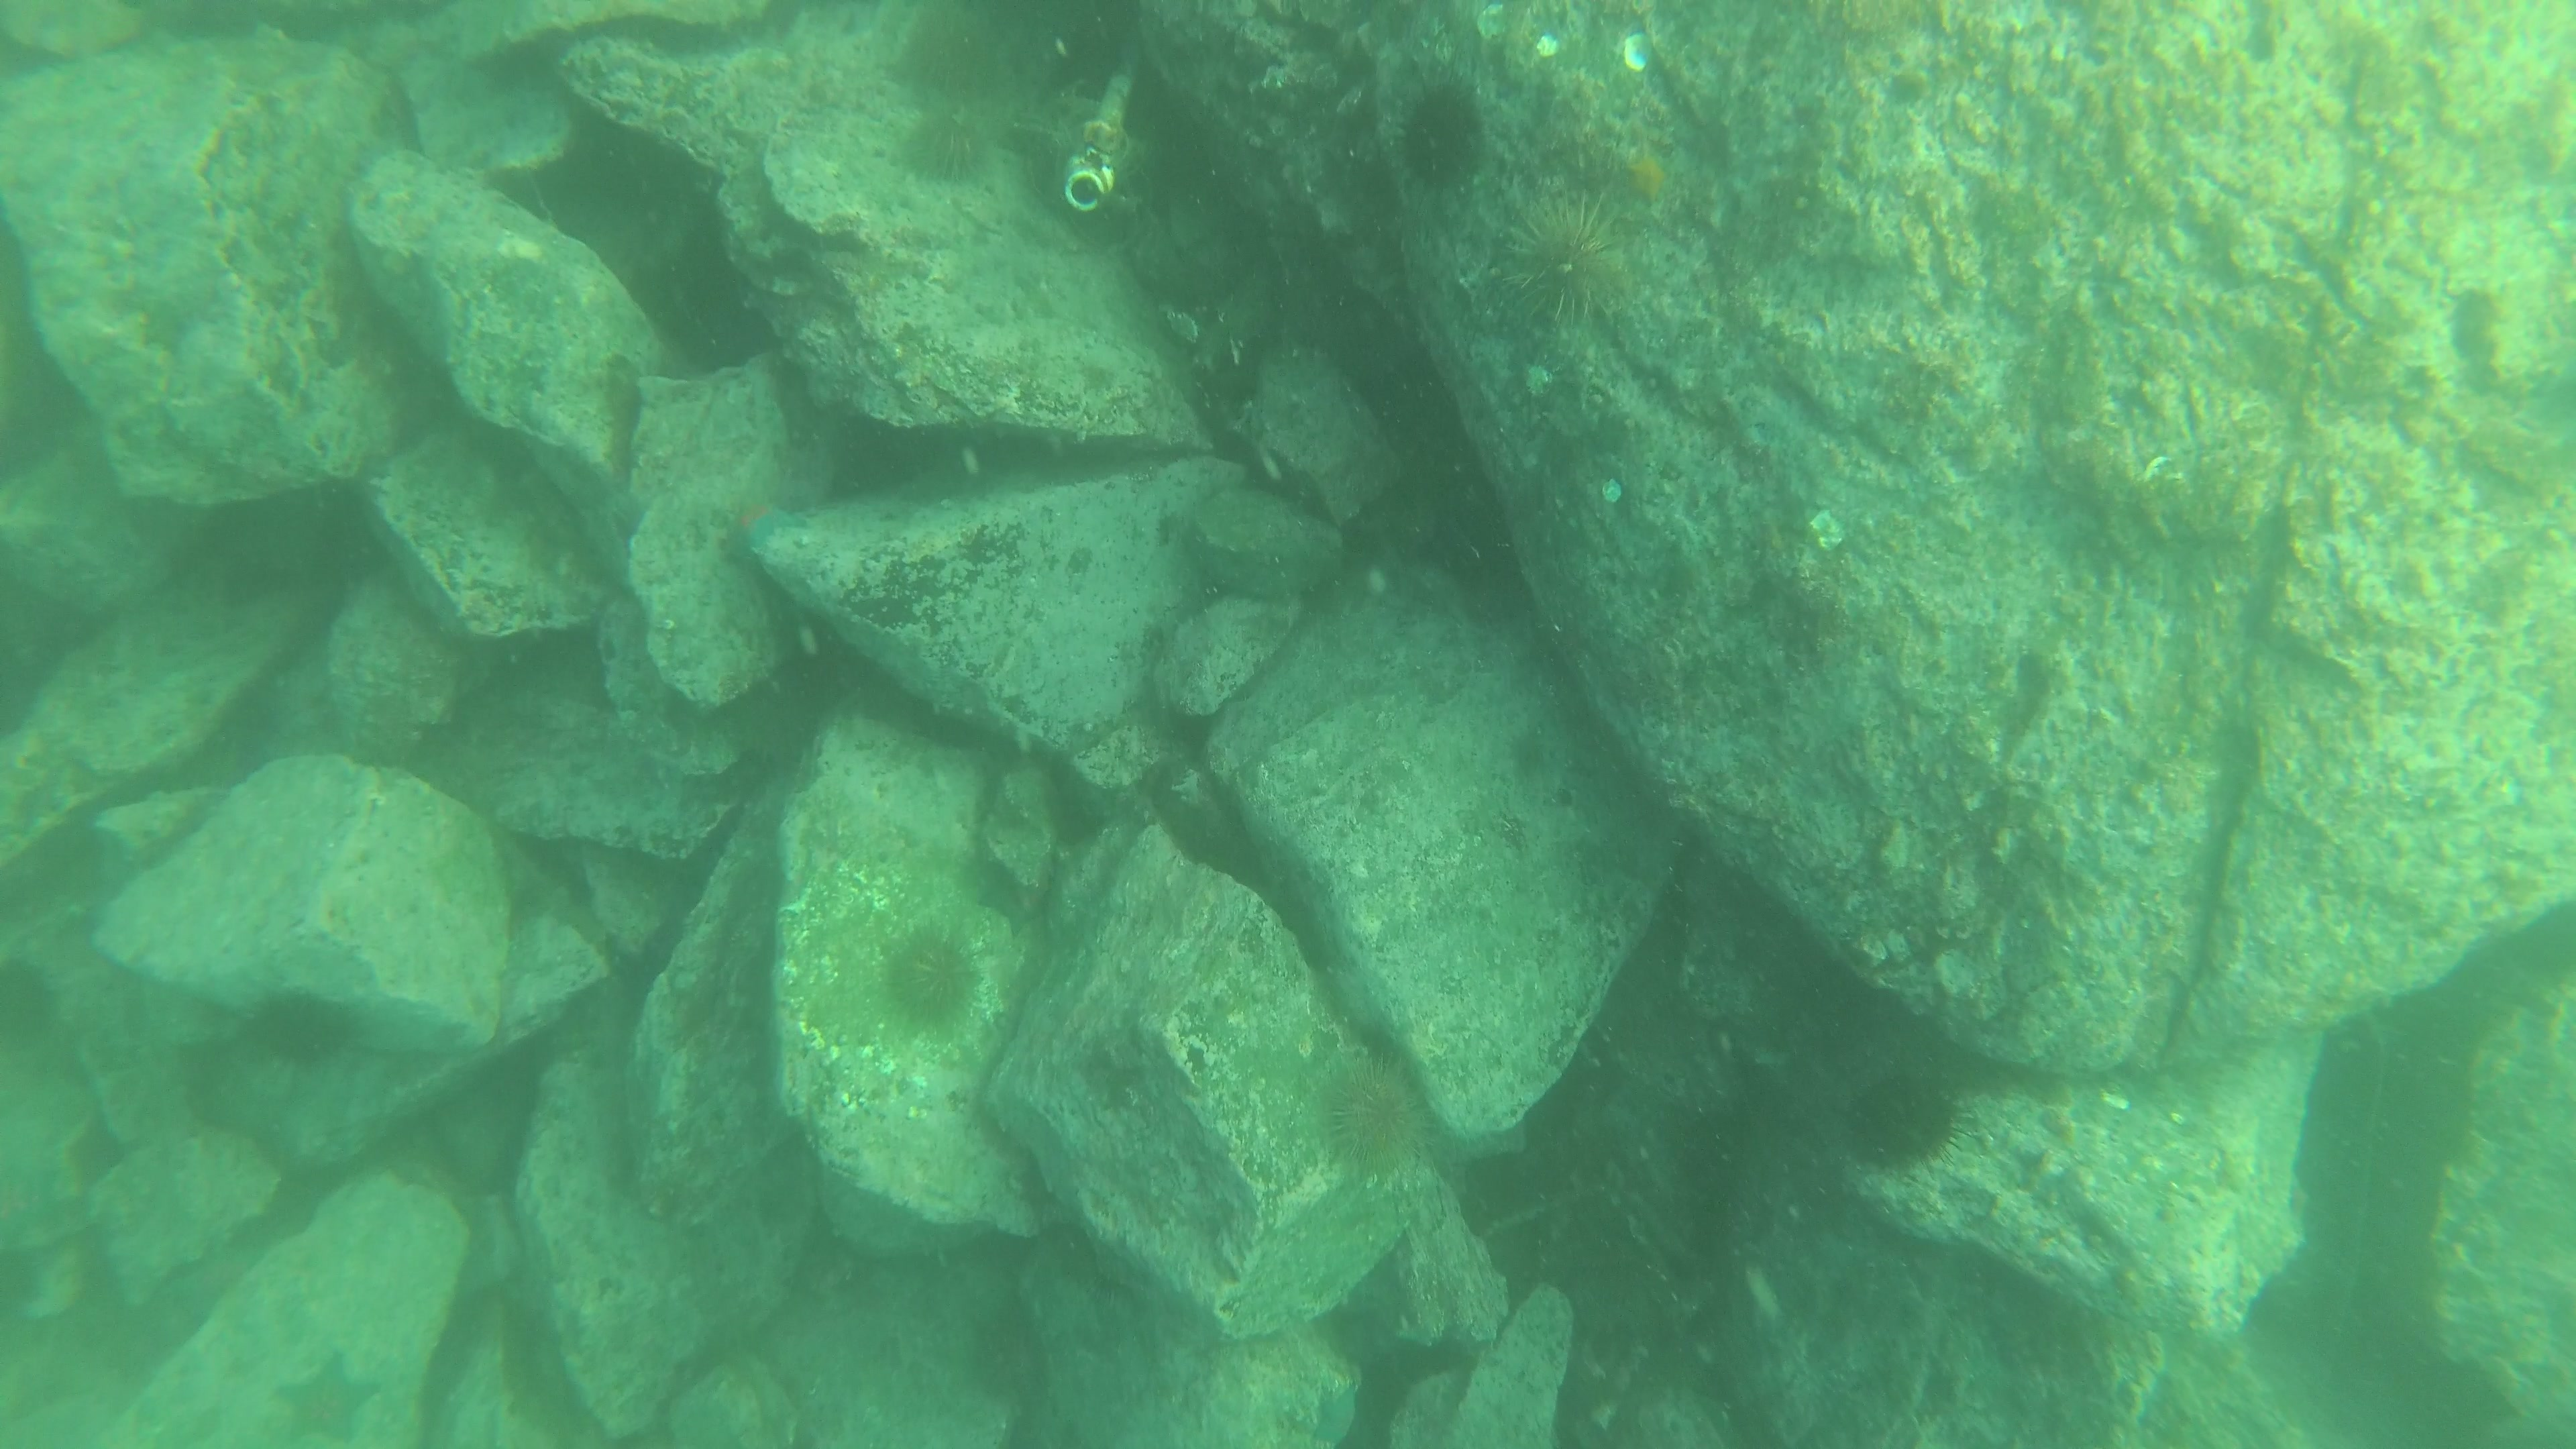echinus: (1493, 189, 1626, 336), (1859, 1070, 1967, 1177), (1389, 87, 1499, 188), (237, 994, 364, 1079), (1325, 1046, 1415, 1164), (901, 932, 991, 1028), (893, 108, 1001, 182)
starfish: (262, 1350, 384, 1440), (1610, 134, 1691, 209)
